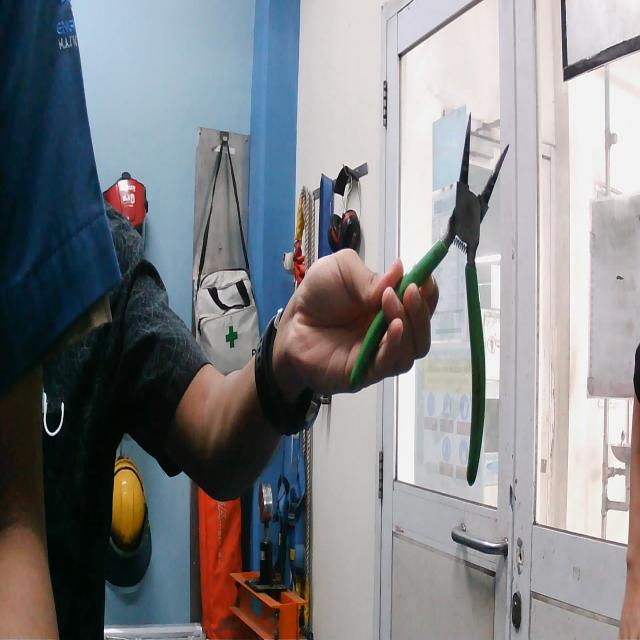tang_scun_hidrolik: (344, 103, 514, 497)
